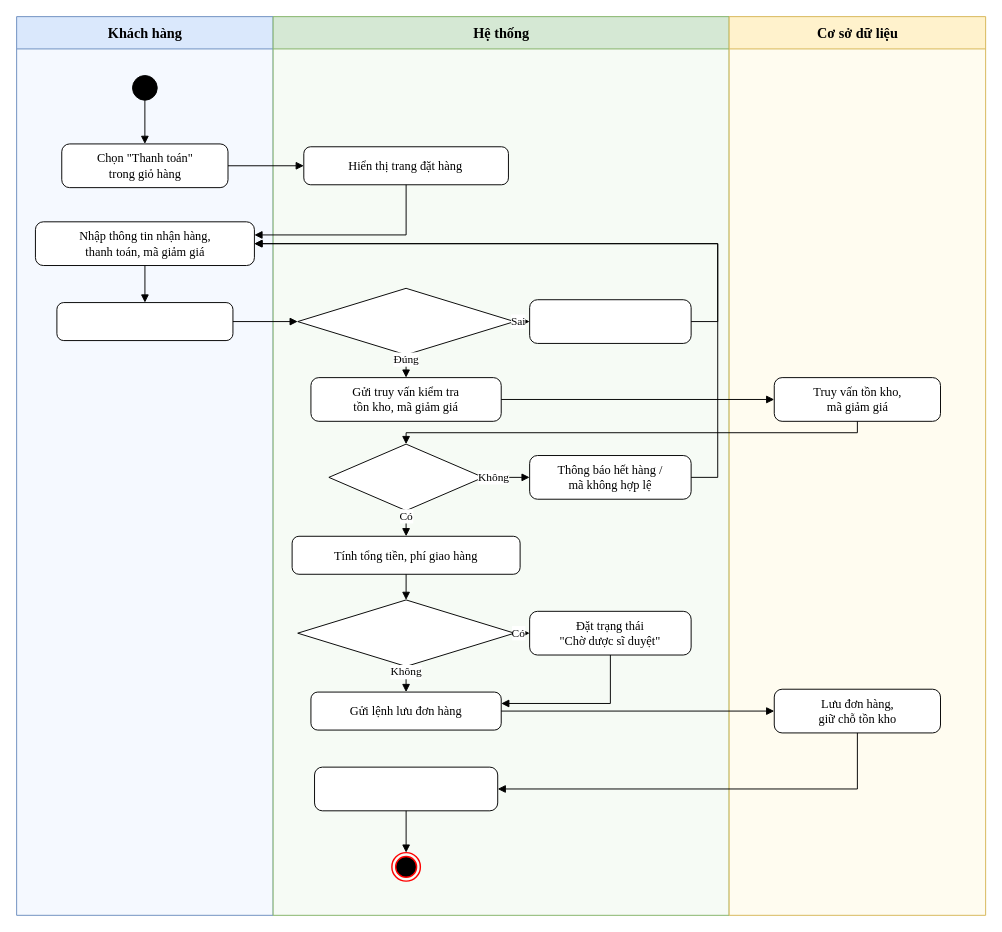
This 1002x932 diagram has some shape labels left out. The shapes that lost their labels are listed below. From the top down, each one's centre as x and y in pixels, then its label:
point 144,321: Nhấn nút "Đặt hàng"
point 405,321: Kiểm tra dữ liệu
point 610,321: Thông báo lỗi, giữ dữ liệu đã nhập
point 405,477: Đủ hàng và mã hợp lệ?
point 405,632: Có thuốc kê đơn?
point 406,788: Hiển thị mã đơn, thông báo thành công
